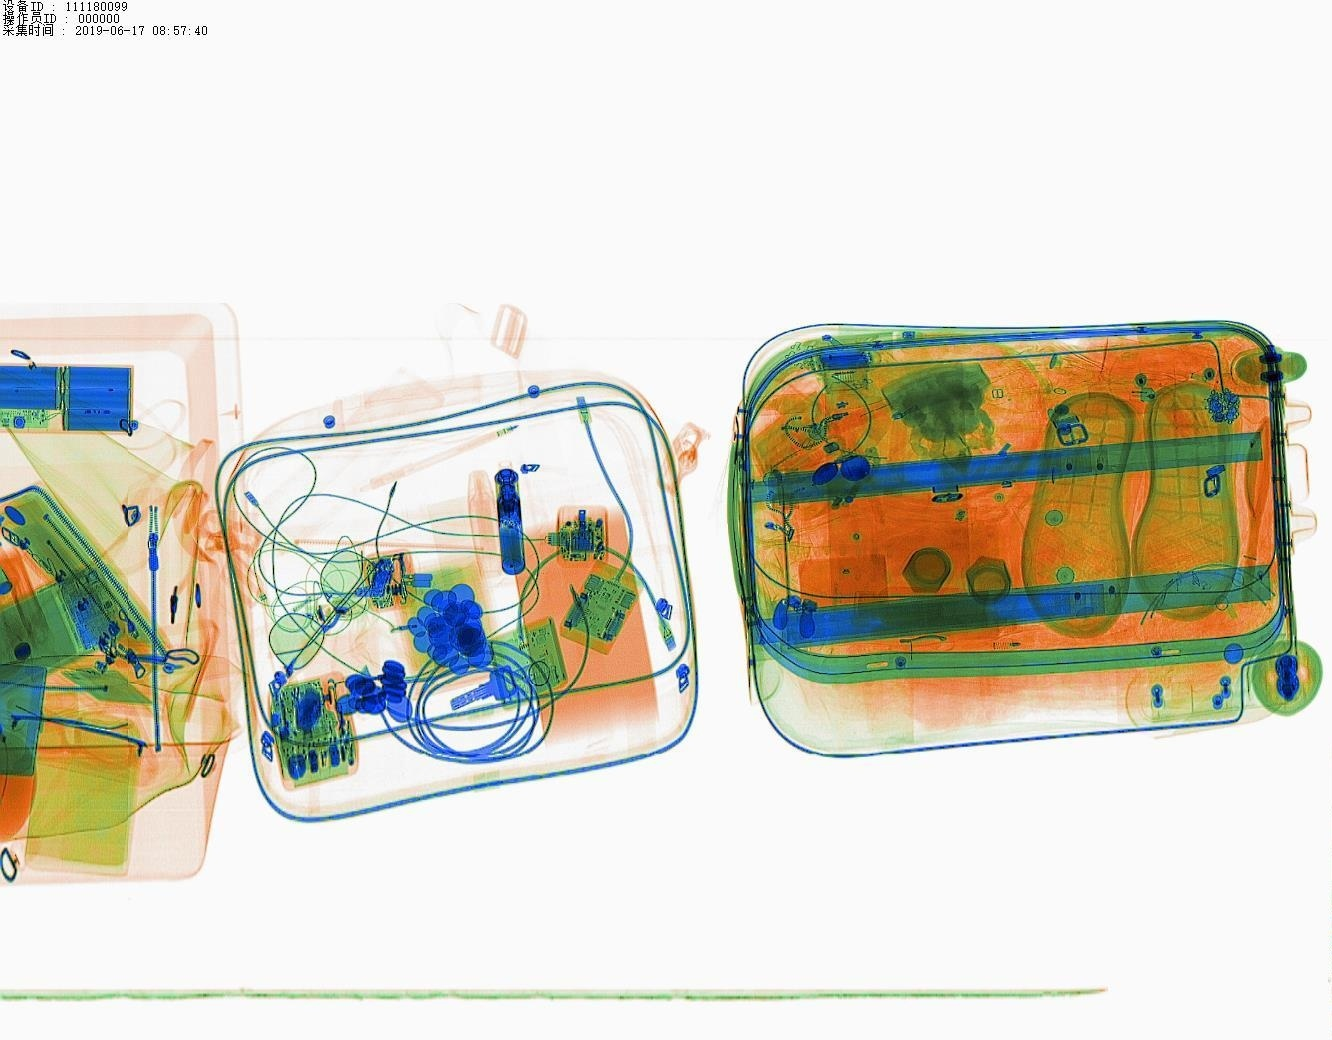NonmetallicFire: (1070, 378, 1165, 412)
